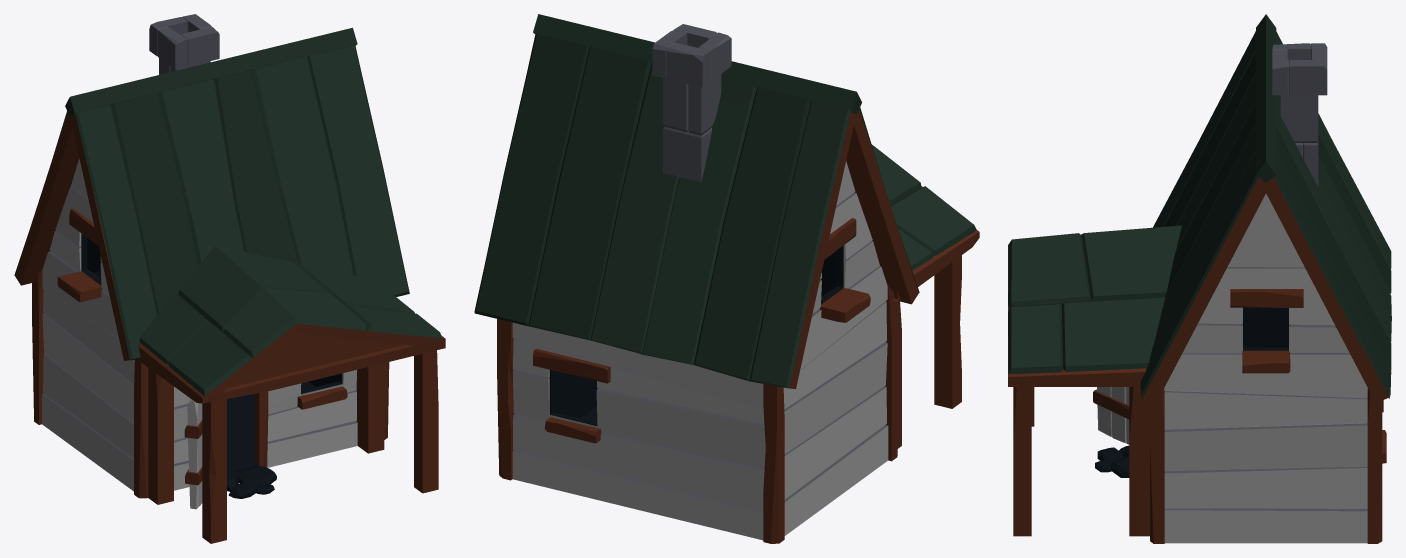
The model's file is House_8.fbx.
The picture shows the model from 3 angles, left to right: view 1: azimuth 30°, elevation 25°; view 2: azimuth 150°, elevation 25°; view 3: azimuth 270°, elevation 25°; orthographic projection. The views are drawn at different scales.
Parts seen in each view (by area): view 1: House_8; view 2: House_8; view 3: House_8.
Boxes of the visible parts, left/top/right/bottom form: House_8: left=14, top=14, right=445, bottom=543; House_8: left=474, top=14, right=979, bottom=543; House_8: left=1008, top=14, right=1391, bottom=543.
Bounding box in the file's own units: 143 × 187 × 155.
